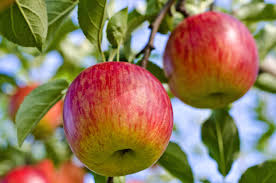apple: (62, 61, 174, 178), (162, 11, 261, 110)
